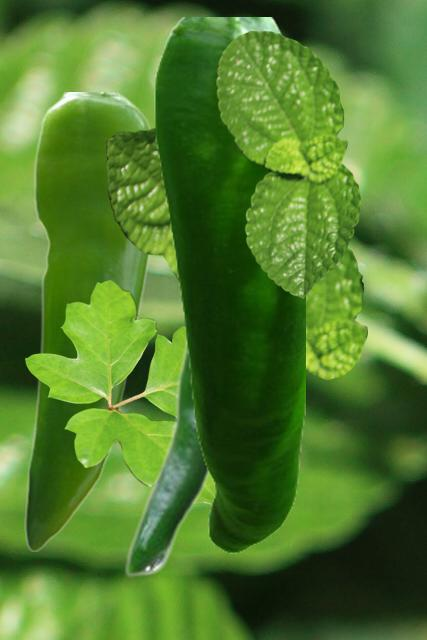green_chili: (154, 17, 304, 552), (24, 92, 152, 550), (123, 318, 209, 576)
